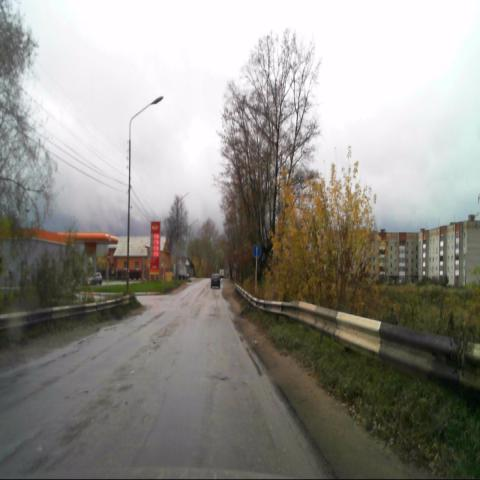4_1_1: (252, 243, 261, 258)
